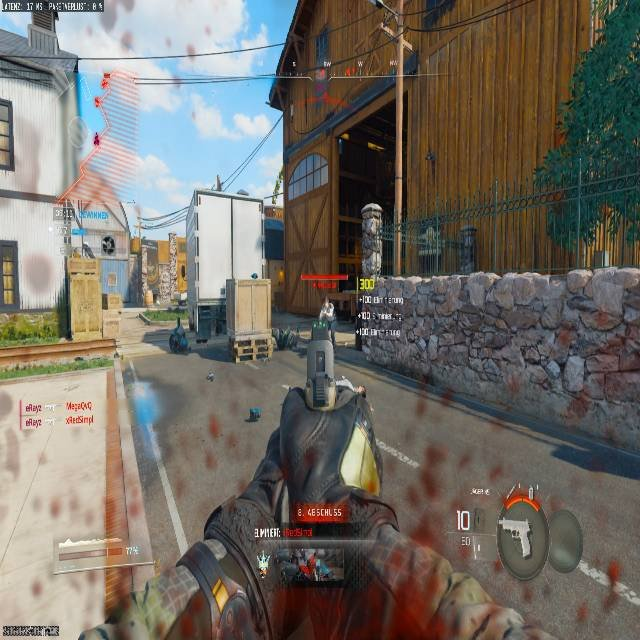player: (458, 224, 480, 270), (101, 235, 115, 254), (321, 301, 333, 319), (81, 242, 94, 258)
